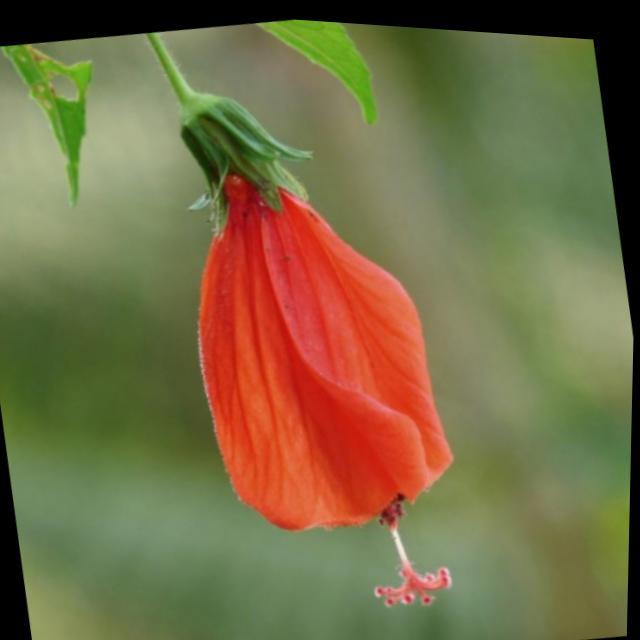Flower: (140, 56, 493, 640)
